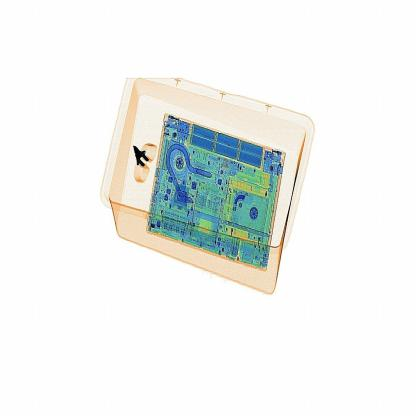gun: (122, 131, 169, 202)
